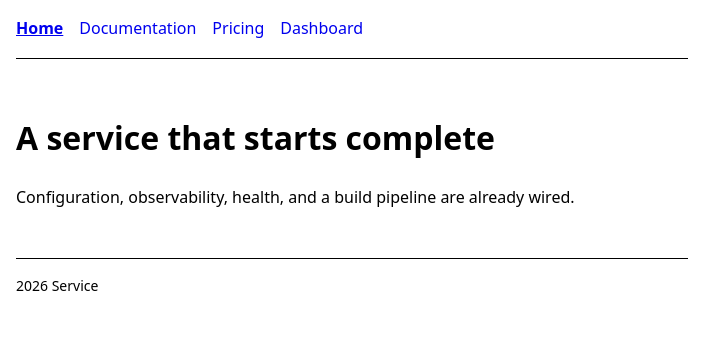
Test: client-side navigation › changes route without a document load and records the history entry
Click the link "Pricing": (238, 29) [212,16,264,42]
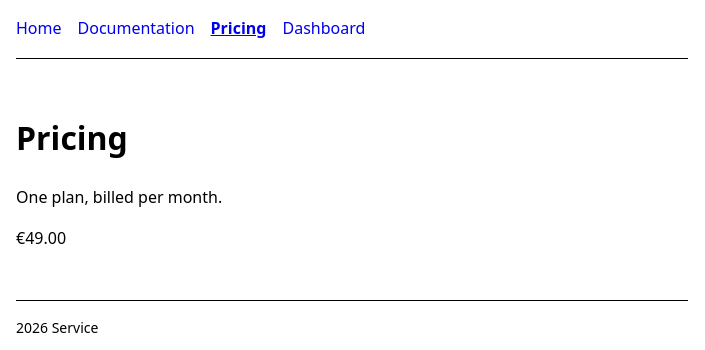
Check: the heading reads "Pricing", box [16,116,128,159]
